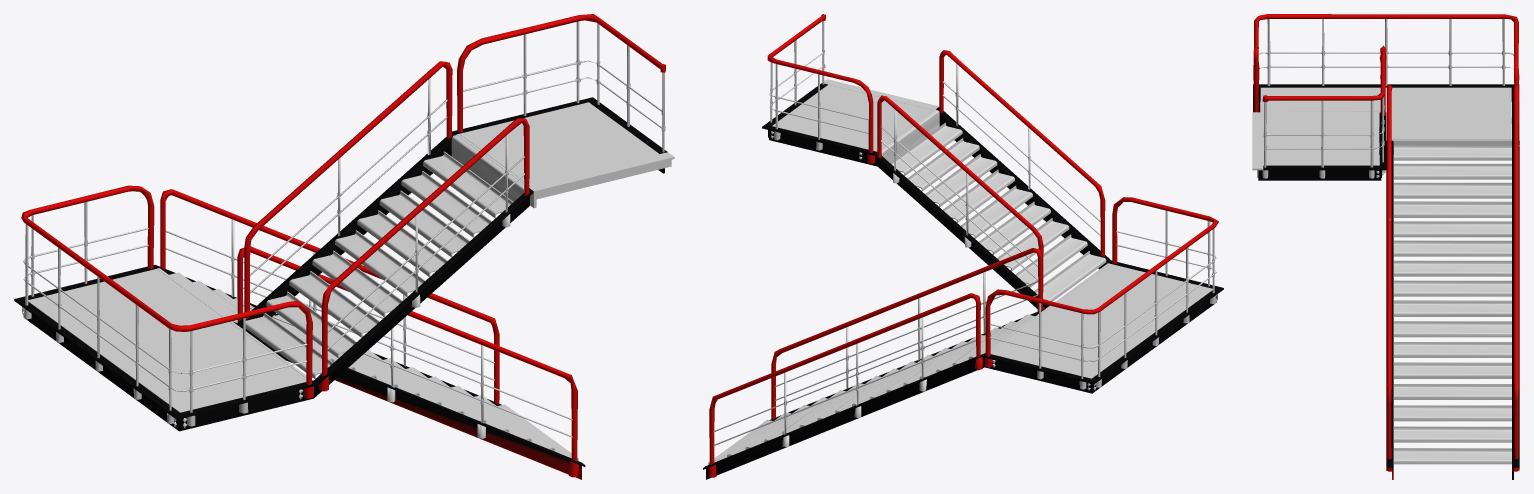
The picture shows the model from 3 angles, left to right: view 1: azimuth 30°, elevation 25°; view 2: azimuth 150°, elevation 25°; view 3: azimuth 270°, elevation 25°; orthographic projection. The views are drawn at different scales.
Parts seen in each view (by area): view 1: Mesh; view 2: Mesh; view 3: Mesh.
Boxes of the visible parts, <box> form: Mesh: <box>14,14,674,479</box>; Mesh: <box>703,14,1223,479</box>; Mesh: <box>1252,14,1519,479</box>.
Bounding box in the file's own units: 7.48 × 6.76 × 4.25.
